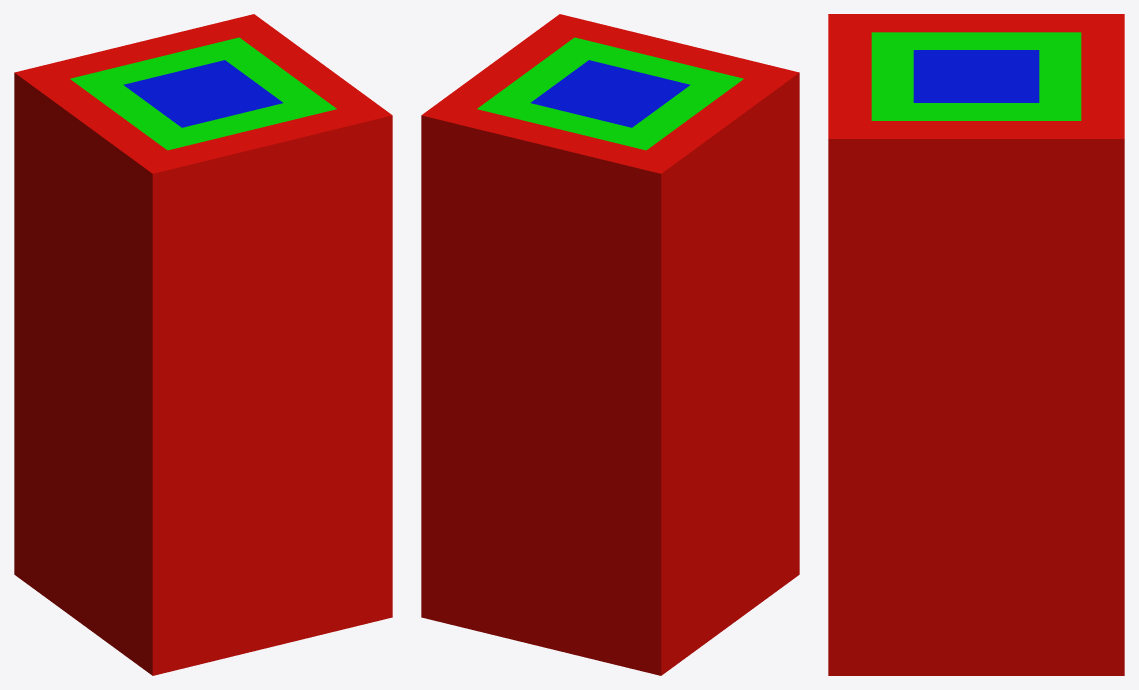
The model's file is block template.fbx.
3 renders of one model, left to right at view 1: azimuth 30°, elevation 25°; view 2: azimuth 150°, elevation 25°; view 3: azimuth 270°, elevation 25°, orthographic. The views are drawn at different scales.
Visible parts, largest first — view 1: block template; view 2: block template; view 3: block template.
Boxes of the visible parts, x1,y1,x2,y2 form: block template: [14, 14, 392, 675]; block template: [421, 14, 799, 675]; block template: [828, 14, 1124, 675].
Bounding box in the file's own units: 100 × 200 × 100.
